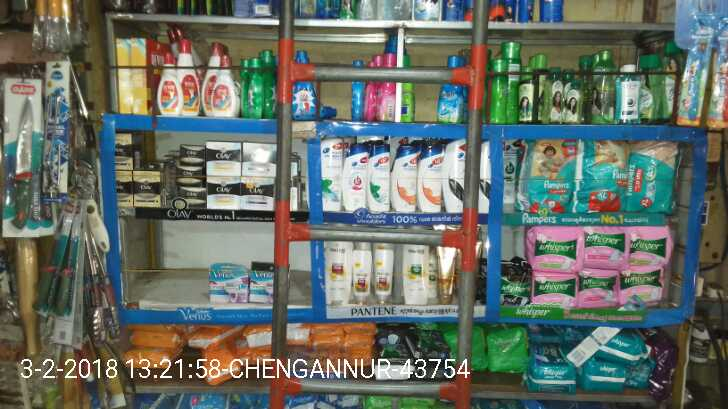venus: (211, 263, 248, 306), (248, 262, 277, 306)
